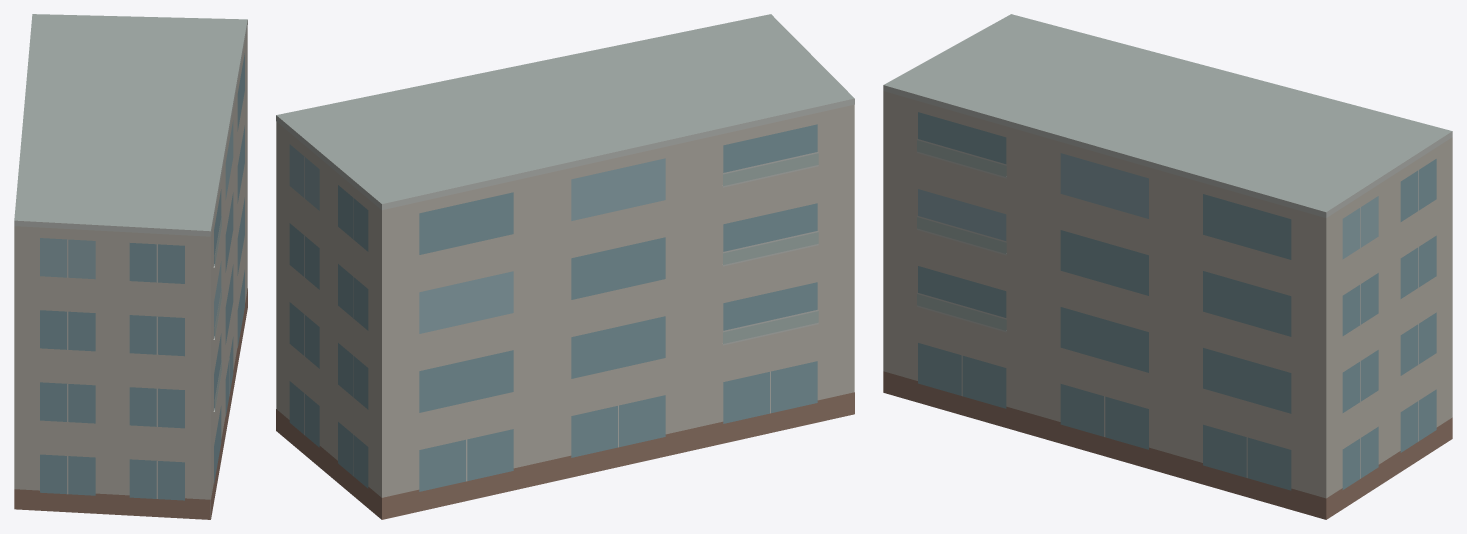
Rendered from survey-upis-32672715.glb.
3 renders of one model, left to right at view 1: azimuth 30°, elevation 25°; view 2: azimuth 150°, elevation 25°; view 3: azimuth 270°, elevation 25°, orthographic. The views are drawn at different scales.
Parts seen in each view (by area): view 1: survey-upis-32672715.tmp; view 2: survey-upis-32672715.tmp; view 3: survey-upis-32672715.tmp.
Boxes of the visible parts, x1,y1,x2,y2 form: survey-upis-32672715.tmp: (14,14,247,519); survey-upis-32672715.tmp: (276,14,854,519); survey-upis-32672715.tmp: (883,14,1452,519).
Bounding box in the file's own units: 17.56 × 12.7 × 21.31.
